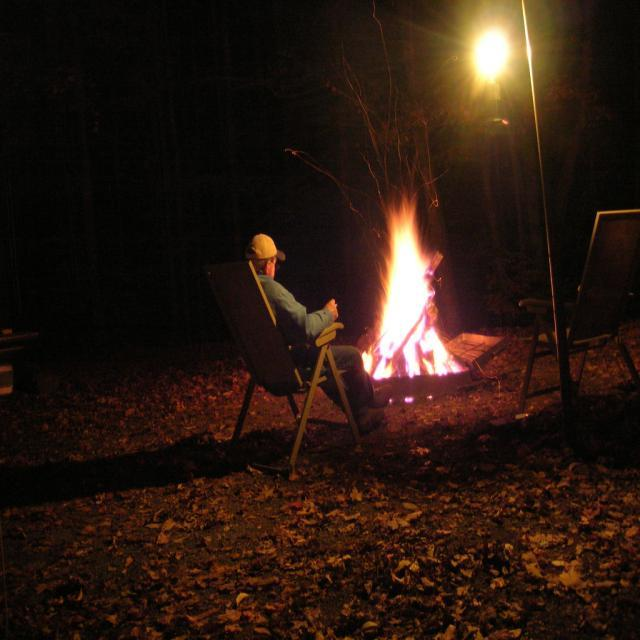Fire: (392, 258, 432, 380)
